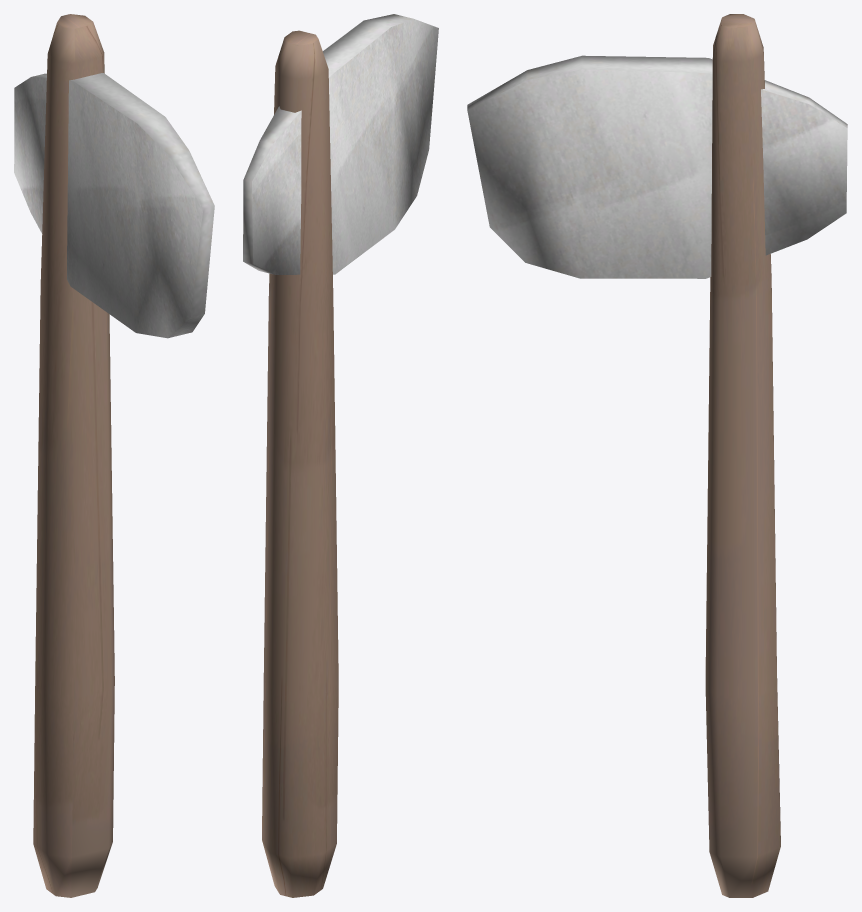
File: StoneAxe.fbx
The picture shows the model from 3 angles, left to right: view 1: azimuth 30°, elevation 25°; view 2: azimuth 150°, elevation 25°; view 3: azimuth 270°, elevation 25°; orthographic projection. The views are drawn at different scales.
Parts seen in each view (by area): view 1: AxeModel; view 2: AxeModel; view 3: AxeModel.
Part boxes in pixels (x1,y1,x2,y2): AxeModel: (14,14,214,897); AxeModel: (243,14,438,897); AxeModel: (467,14,847,897).
Bounding box in the file's own units: 0.1205 × 1.62 × 0.6417.
1 material, 1 textured.
